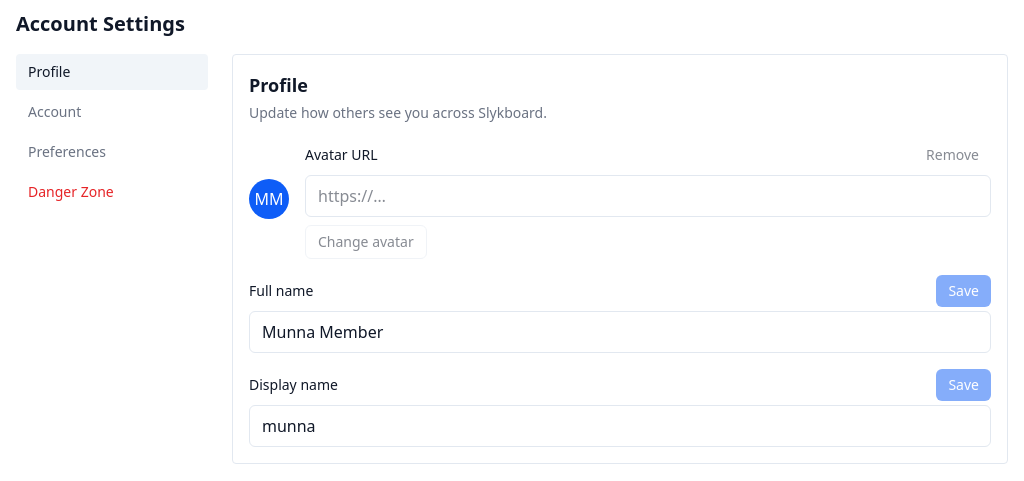
AccountSettingsPage › enables Change avatar / Remove when an avatar URL is entered
Type "https://img.example/x.png" into the field labelled "Avatar URL". click: {"x": 648, "y": 196}
box: [305, 175, 991, 217]
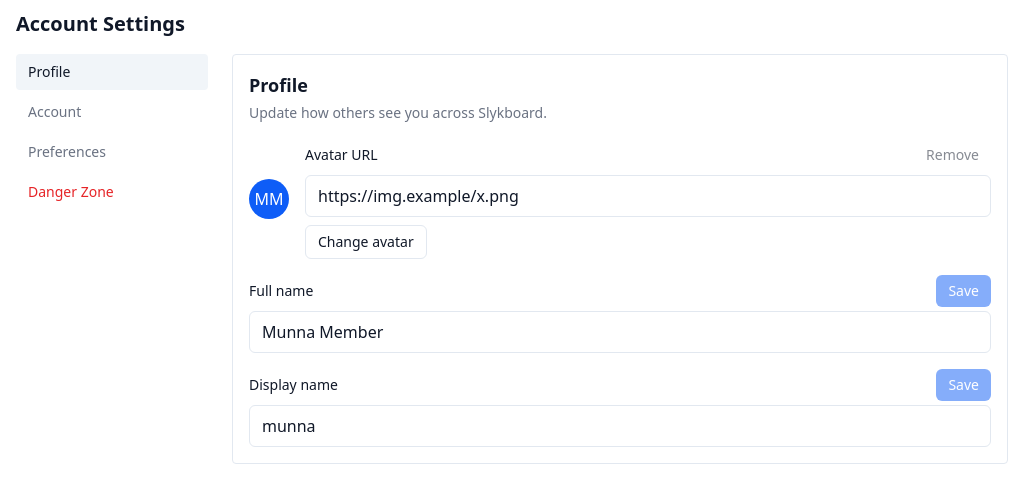
Expected: the button "Change avatar" is enabled
Applying the URL enables Remove (an avatar is now set locally).
Click the button "Change avatar". click: {"x": 366, "y": 242}
box: [305, 225, 427, 259]
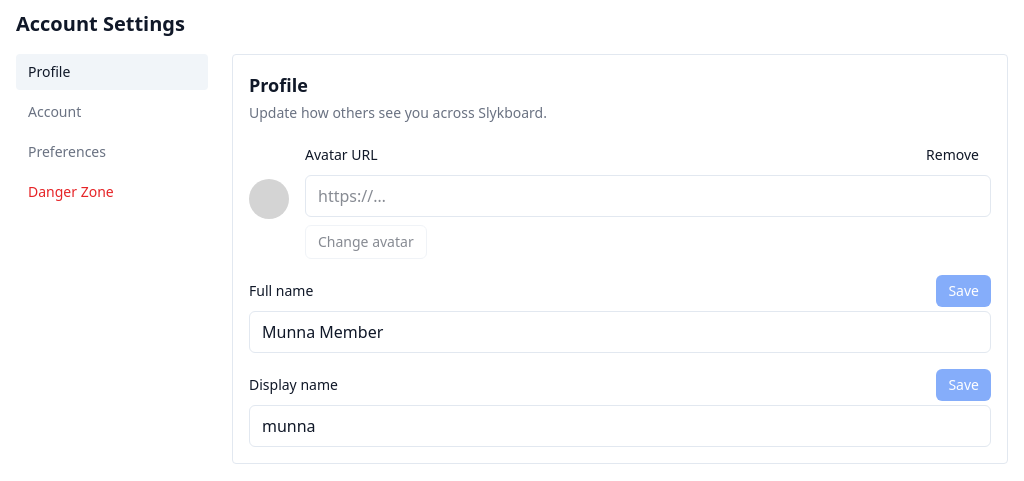
Expected: the button "Remove" is enabled, [914, 139, 991, 171]
